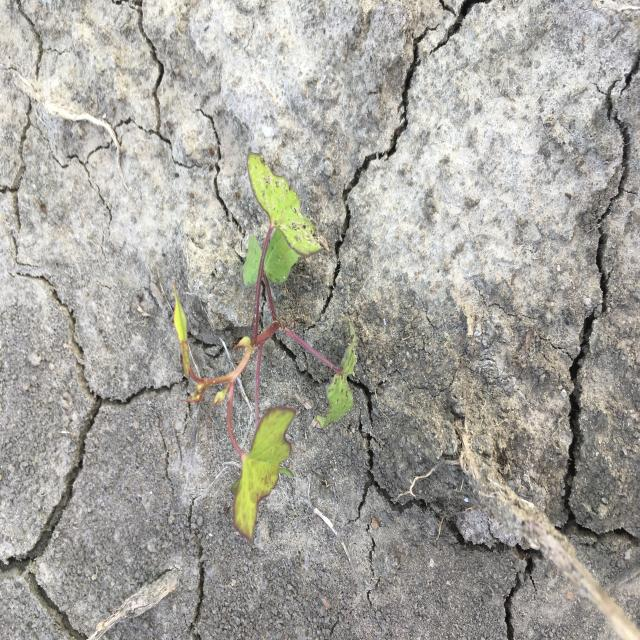MorningGlory: (171, 146, 361, 547)
